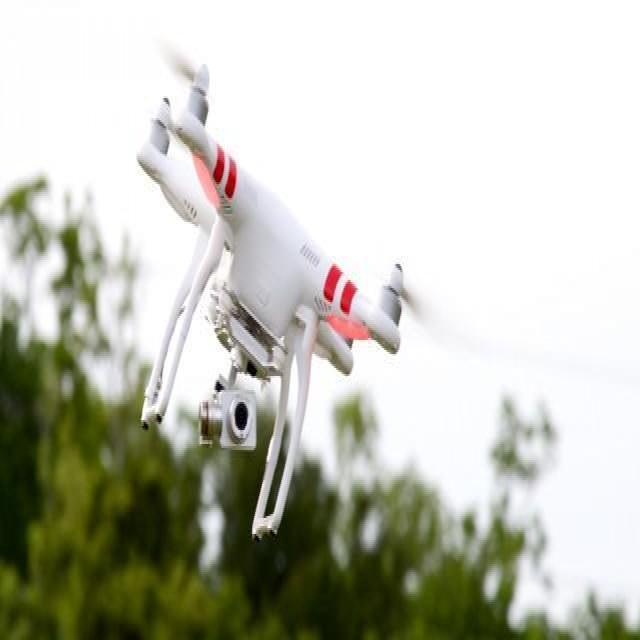drone: (134, 63, 408, 540)
